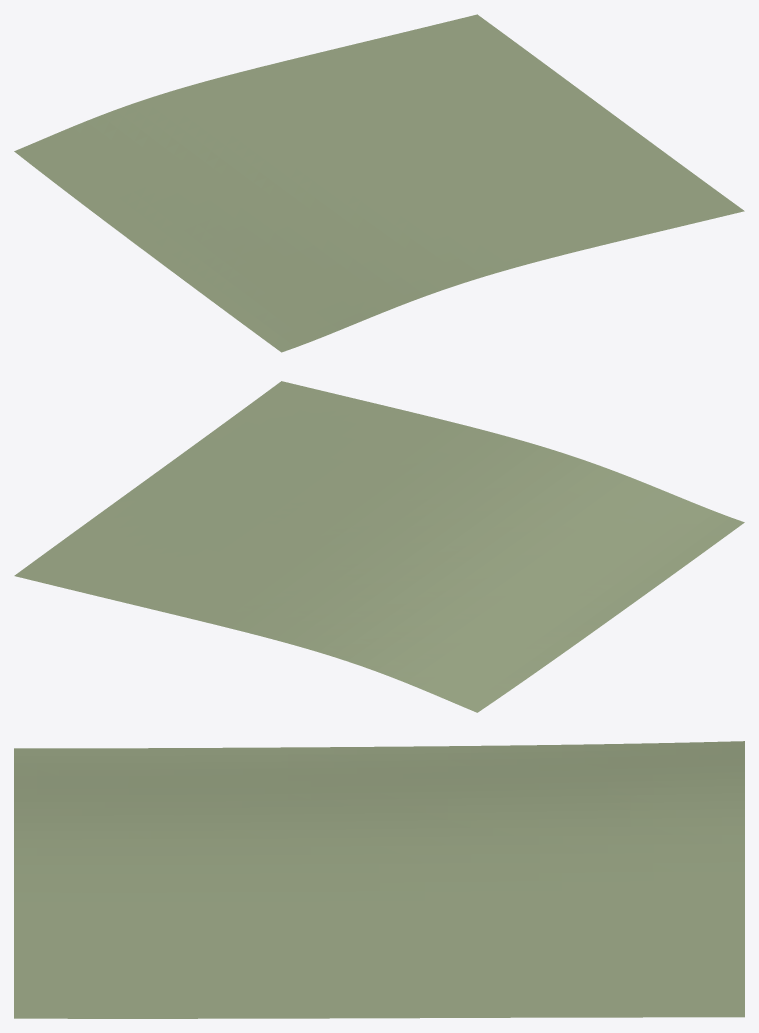
Rendered from desert-14-2.glb.
3 views of the same model, one above another, from view 1: azimuth 30°, elevation 25°; view 2: azimuth 150°, elevation 25°; view 3: azimuth 270°, elevation 25° (orthographic). The views are drawn at different scales.
Parts seen in each view (by area): view 1: desert-14-2; view 2: desert-14-2; view 3: desert-14-2.
Part boxes in pixels (left/top/right/bottom): desert-14-2: left=14, top=14, right=744, bottom=352; desert-14-2: left=14, top=381, right=744, bottom=712; desert-14-2: left=14, top=741, right=744, bottom=1018.
Bounding box in the file's own units: 512 × 31.41 × 512.
